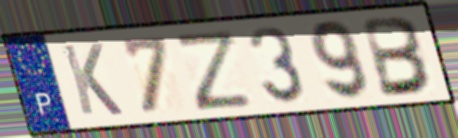3: (248, 25, 308, 107)
7: (120, 33, 174, 117)
9: (305, 19, 374, 103)
B: (360, 14, 436, 100)
K: (58, 41, 126, 118)
Z: (172, 27, 256, 114)
